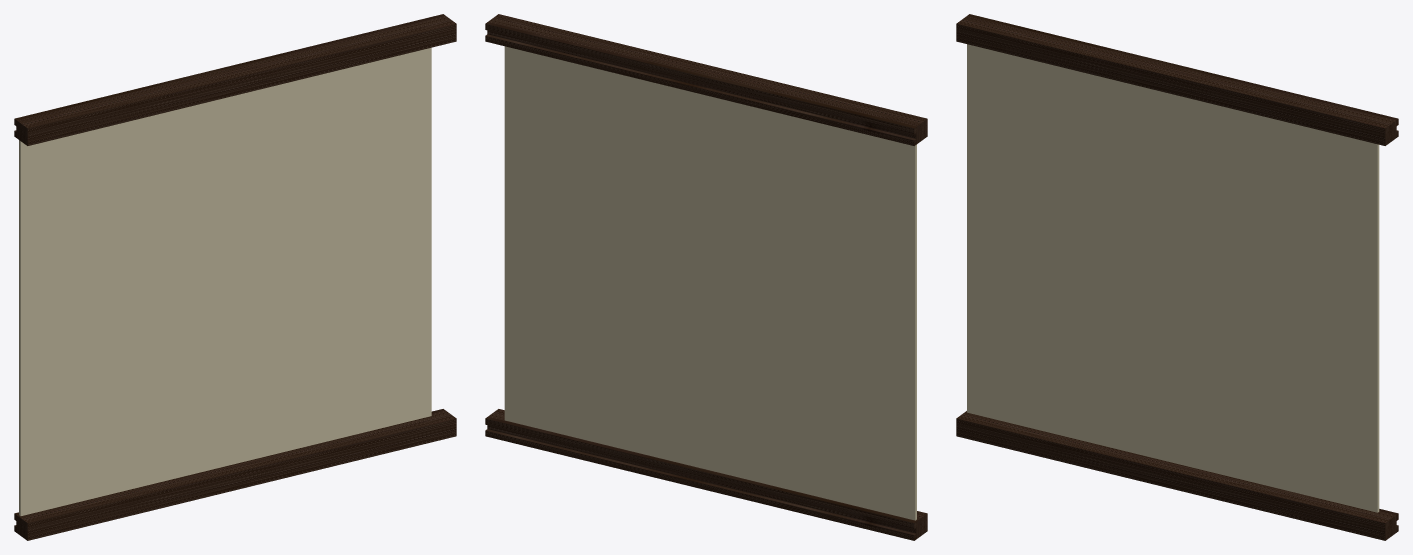
Rendered from Environment_PlainWall_Beige.glb.
3 views of the same model, side by side, from view 1: azimuth 30°, elevation 25°; view 2: azimuth 150°, elevation 25°; view 3: azimuth 330°, elevation 25° (orthographic).
Visible parts, largest first — view 1: Wall F.005, Cube.012, Cube.014; view 2: Wall F.005, Cube.012, Cube.014; view 3: Wall F.005, Cube.012, Cube.014.
Part boxes in pixels (box(x1,y1,x2,y2)): Wall F.005: box(19, 47, 431, 515); Cube.012: box(14, 14, 456, 145); Cube.014: box(14, 409, 456, 540); Wall F.005: box(504, 46, 916, 520); Cube.012: box(485, 14, 927, 145); Cube.014: box(485, 409, 927, 540); Wall F.005: box(967, 44, 1379, 512); Cube.012: box(956, 14, 1398, 145); Cube.014: box(956, 411, 1398, 540).
Size of the model in its own units: 17.19 by 15.8 by 0.9248.
Materials: 2 (1 with a texture image).
